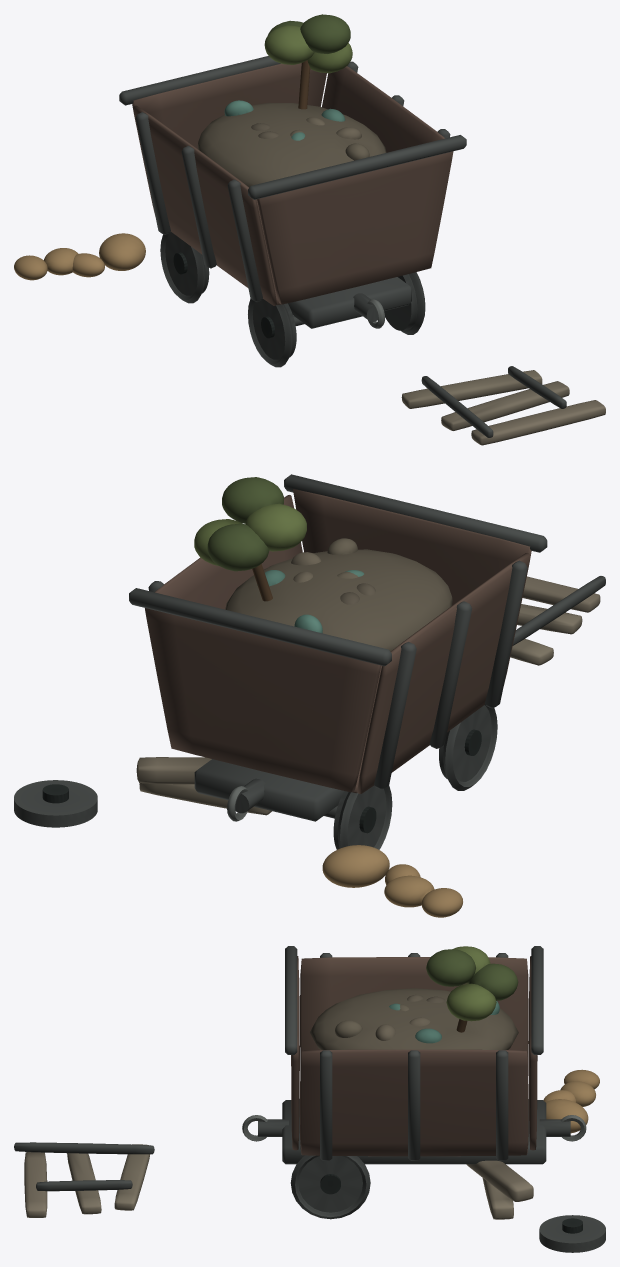
The model's file is tram_bogie_b.glb.
The picture shows the model from 3 angles, top to bottom: view 1: azimuth 30°, elevation 25°; view 2: azimuth 150°, elevation 25°; view 3: azimuth 270°, elevation 25°; orthographic projection. The views are drawn at different scales.
Visible parts, largest first — view 1: Surface; view 2: Surface; view 3: Surface.
Boxes of the visible parts, x1,y1,x2,y2 form: Surface: (14,14,605,445); Surface: (14,474,605,917); Surface: (14,946,605,1252).
Bounding box in the file's own units: 4.64 × 3.26 × 6.73.
